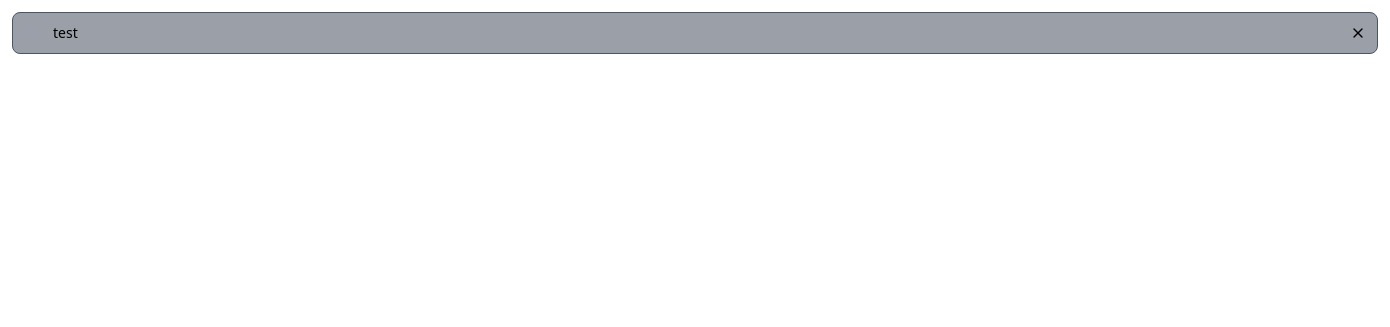
Test case: SearchBar › falls back to basic search when suggestions endpoint fails
Focus the field with placeholder "Search comics...": [695, 33] box [12,12,1378,54]
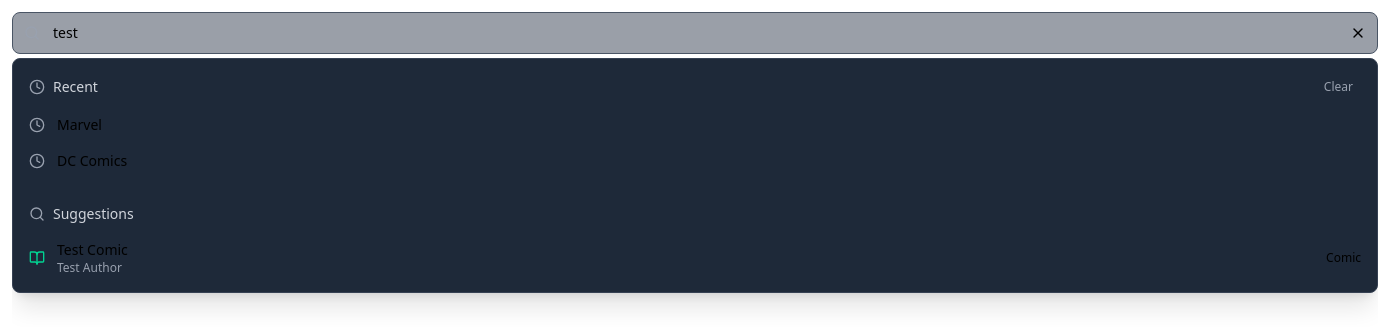
Now the text "Test Comic" is shown, box [57,240,128,259]
